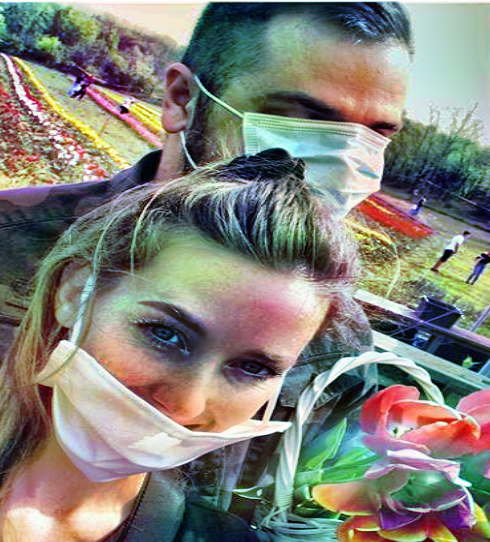mask_weared_incorrect: (42, 190, 333, 482), (161, 2, 422, 224)
